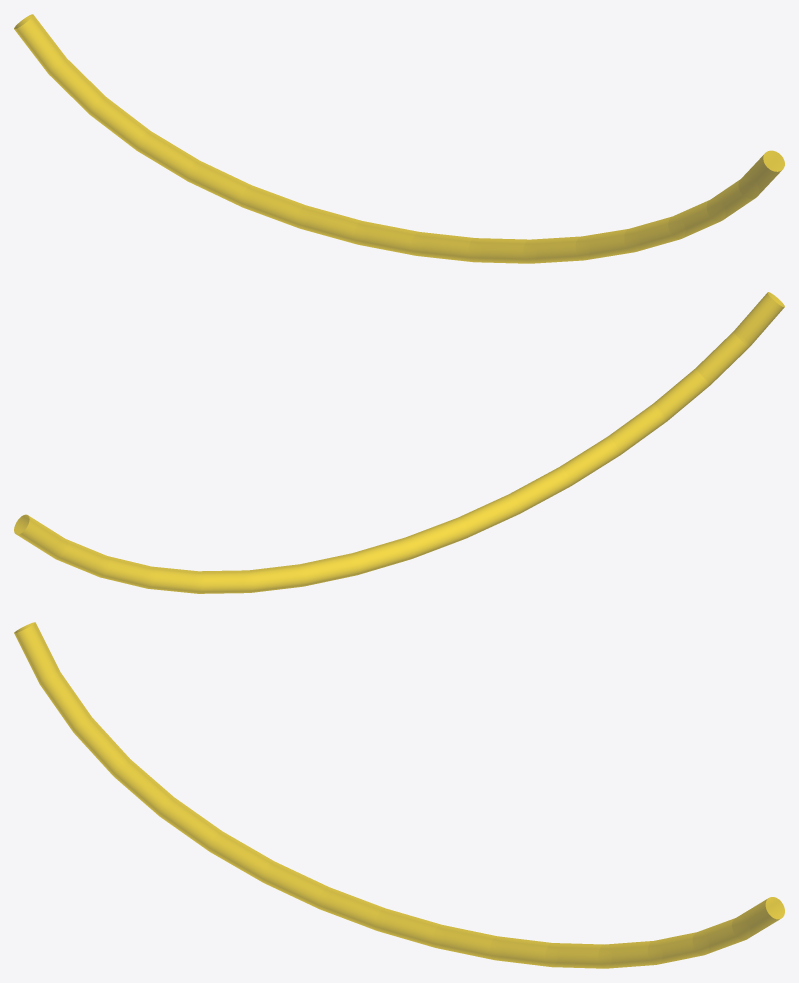
The model's file is Event_419990632_track_60.fbx.
3 views of the same model, one above another, from view 1: azimuth 90°, elevation 25°; view 2: azimuth 150°, elevation 25°; view 3: azimuth 270°, elevation 25° (orthographic). The views are drawn at different scales.
Parts seen in each view (by area): view 1: Model; view 2: Model; view 3: Model.
Boxes of the visible parts, x1,y1,x2,y2 form: Model: (14, 14, 784, 263); Model: (14, 292, 784, 593); Model: (14, 622, 784, 968).
Bounding box in the file's own units: 0.8535 × 0.379 × 1.27.
